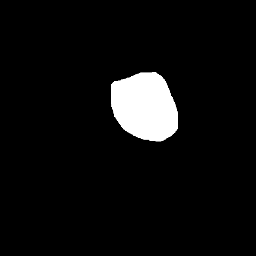mass: (111, 72, 180, 145)
